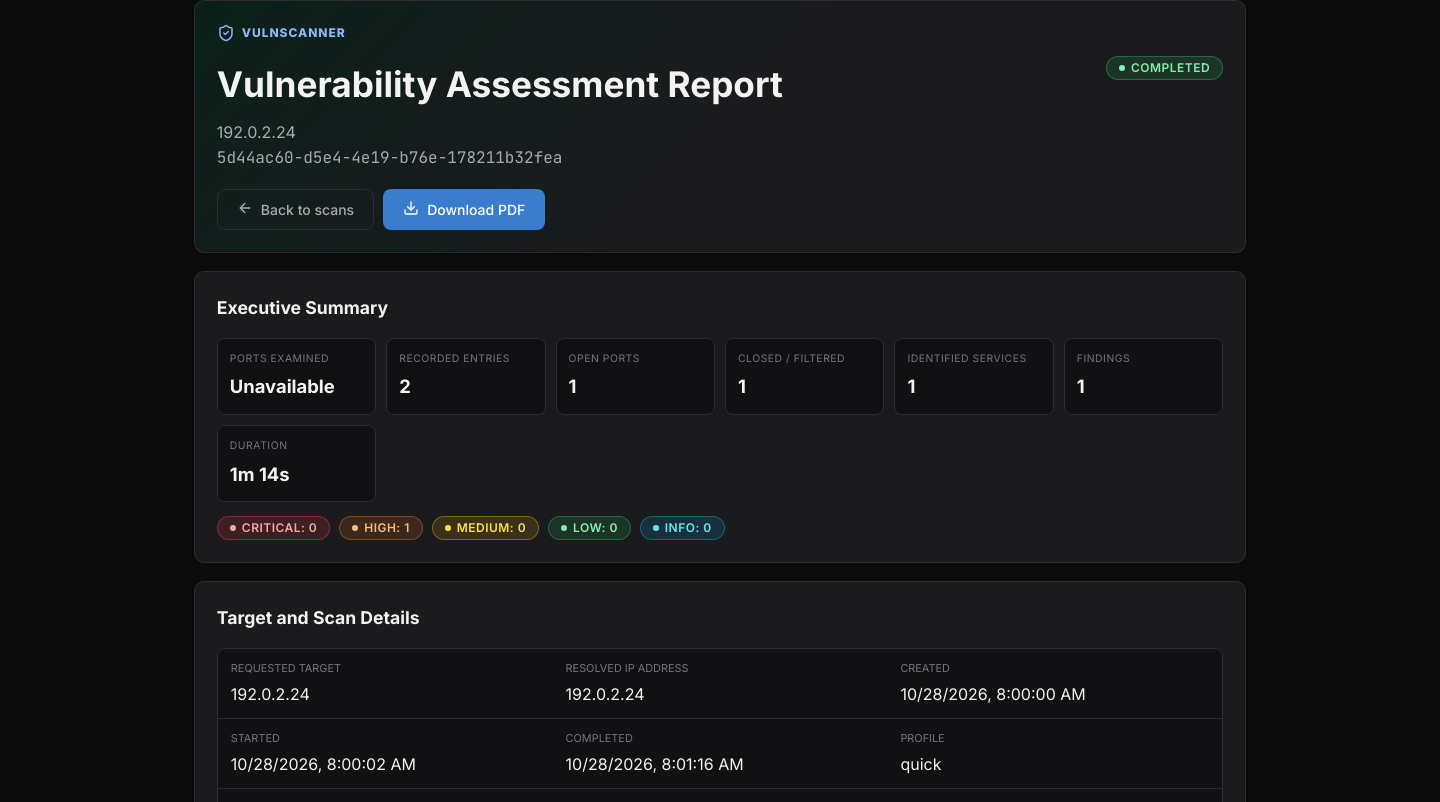
it: scan report viewer › downloads once per click with the exact report payload and no confirmation
The image size is (1440, 802).
Click the button "Download PDF": point(464, 209) [383,189,545,230]
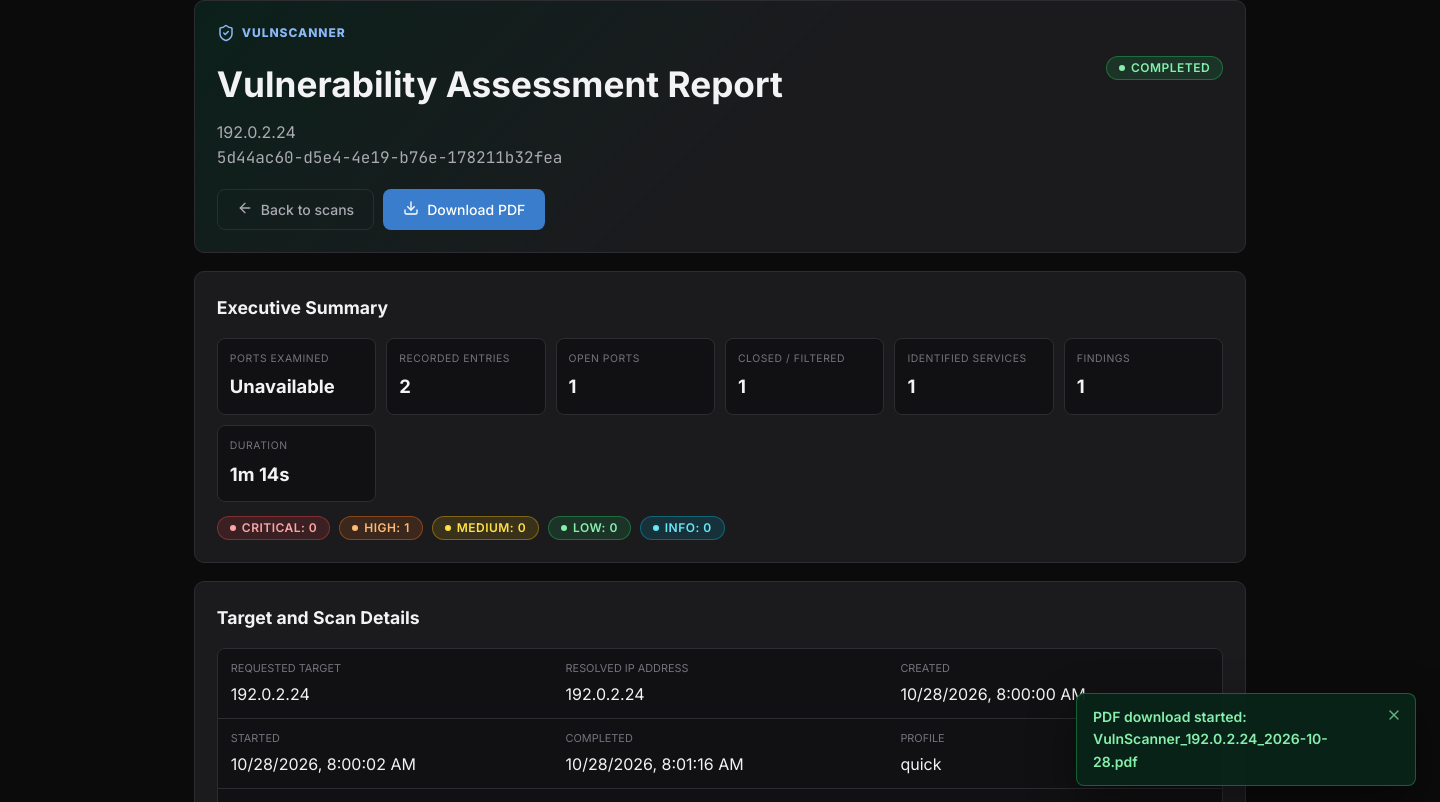
Expected: the text "PDF download started: VulnScanner_192.0.2.24_2026-10-28.pdf" is shown, [1093,706,1368,773]
